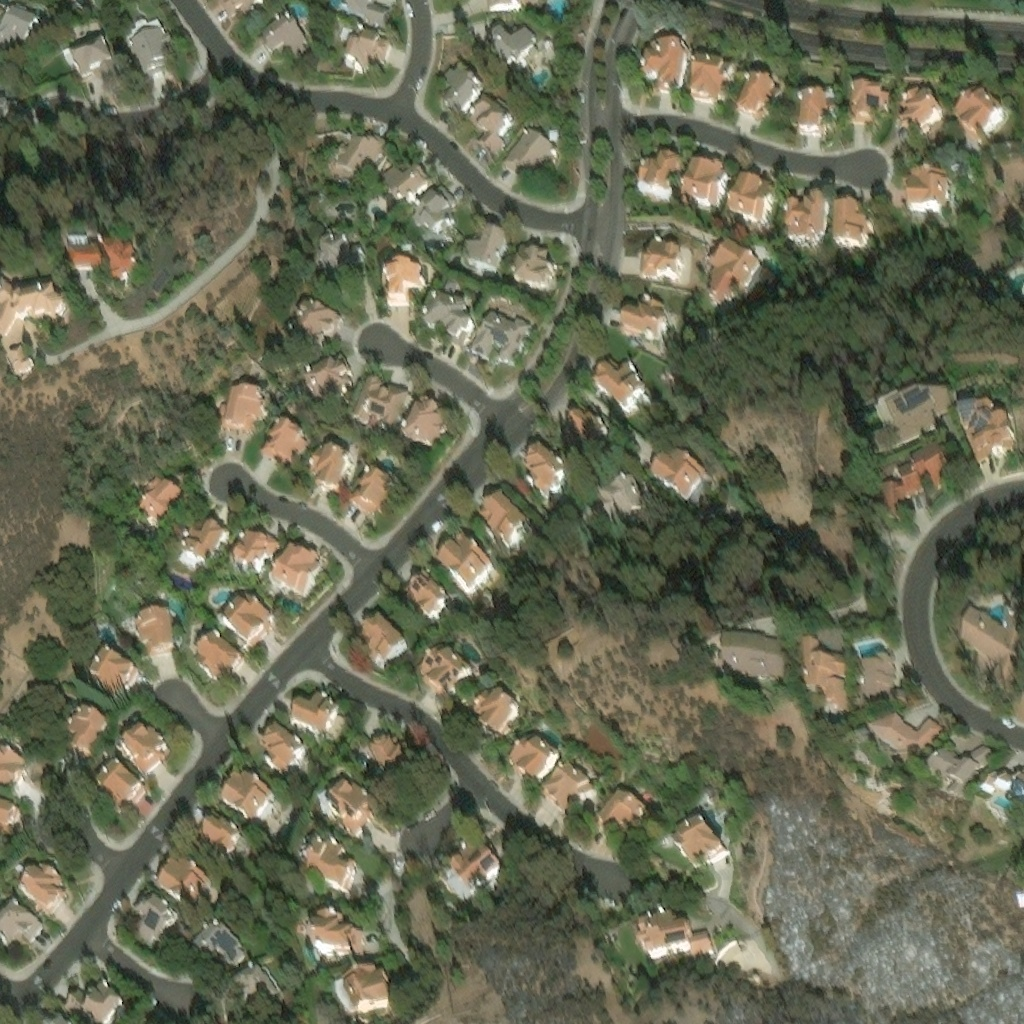0 no-damage: (952, 574, 1021, 678), (0, 280, 68, 382), (923, 702, 991, 793), (868, 383, 955, 453), (880, 438, 955, 514), (852, 701, 942, 764), (434, 832, 503, 907), (418, 269, 475, 350), (630, 906, 714, 955), (955, 398, 1018, 460), (350, 374, 412, 435), (486, 25, 555, 79), (707, 242, 764, 307), (59, 35, 126, 90), (118, 11, 173, 78), (948, 83, 1008, 143), (538, 758, 598, 817), (645, 442, 706, 500), (469, 311, 532, 367), (267, 544, 322, 607), (437, 530, 493, 591), (799, 632, 842, 711), (325, 128, 388, 181), (303, 824, 354, 889), (223, 767, 280, 825), (218, 594, 273, 654), (717, 631, 784, 680), (127, 888, 179, 950), (319, 782, 377, 837), (154, 850, 212, 905), (417, 640, 471, 699), (465, 92, 515, 155), (189, 634, 245, 690), (332, 958, 387, 1015), (67, 236, 138, 280), (500, 124, 556, 178), (722, 172, 774, 230), (62, 978, 128, 1023), (178, 519, 229, 575), (631, 146, 683, 200), (457, 222, 508, 277), (230, 527, 283, 579), (407, 181, 458, 235), (289, 298, 344, 348), (121, 721, 170, 776), (403, 568, 454, 620), (189, 917, 242, 967), (302, 351, 352, 404), (671, 810, 720, 864), (478, 491, 527, 545), (136, 471, 184, 526), (19, 865, 69, 917), (358, 615, 407, 668), (400, 394, 446, 450), (87, 648, 136, 700), (680, 158, 728, 211), (596, 784, 644, 837), (313, 225, 361, 278), (506, 727, 555, 778), (290, 688, 341, 737), (641, 37, 688, 90), (347, 468, 397, 517), (95, 762, 146, 810), (259, 417, 310, 465), (523, 444, 569, 497), (337, 22, 390, 68), (687, 52, 737, 100), (256, 11, 307, 58), (310, 909, 361, 955), (622, 293, 670, 341), (640, 236, 690, 282), (472, 684, 517, 735), (228, 959, 277, 1005), (262, 725, 307, 775), (215, 382, 263, 428), (512, 241, 557, 290), (784, 192, 828, 242), (737, 70, 785, 115), (68, 708, 108, 761), (0, 902, 46, 948), (596, 360, 644, 404), (380, 161, 429, 204), (0, 1, 42, 51), (439, 64, 481, 114), (899, 85, 943, 132), (598, 476, 642, 523), (904, 166, 948, 212), (796, 84, 836, 134), (831, 197, 872, 245), (380, 259, 423, 304), (198, 815, 242, 858), (846, 79, 890, 122), (977, 753, 1023, 794), (135, 610, 176, 656), (310, 446, 347, 495), (564, 406, 607, 447), (857, 640, 887, 698), (370, 736, 409, 776), (341, 0, 390, 26), (205, 0, 261, 16), (0, 798, 21, 837), (0, 99, 26, 128), (487, 0, 536, 11), (39, 1009, 68, 1023), (12, 863, 27, 879), (547, 131, 559, 143)
